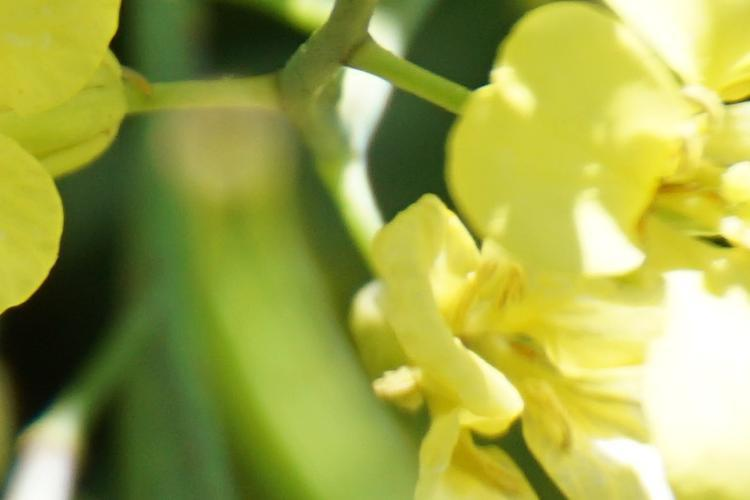yellow: (359, 58, 740, 474), (11, 12, 135, 297)
